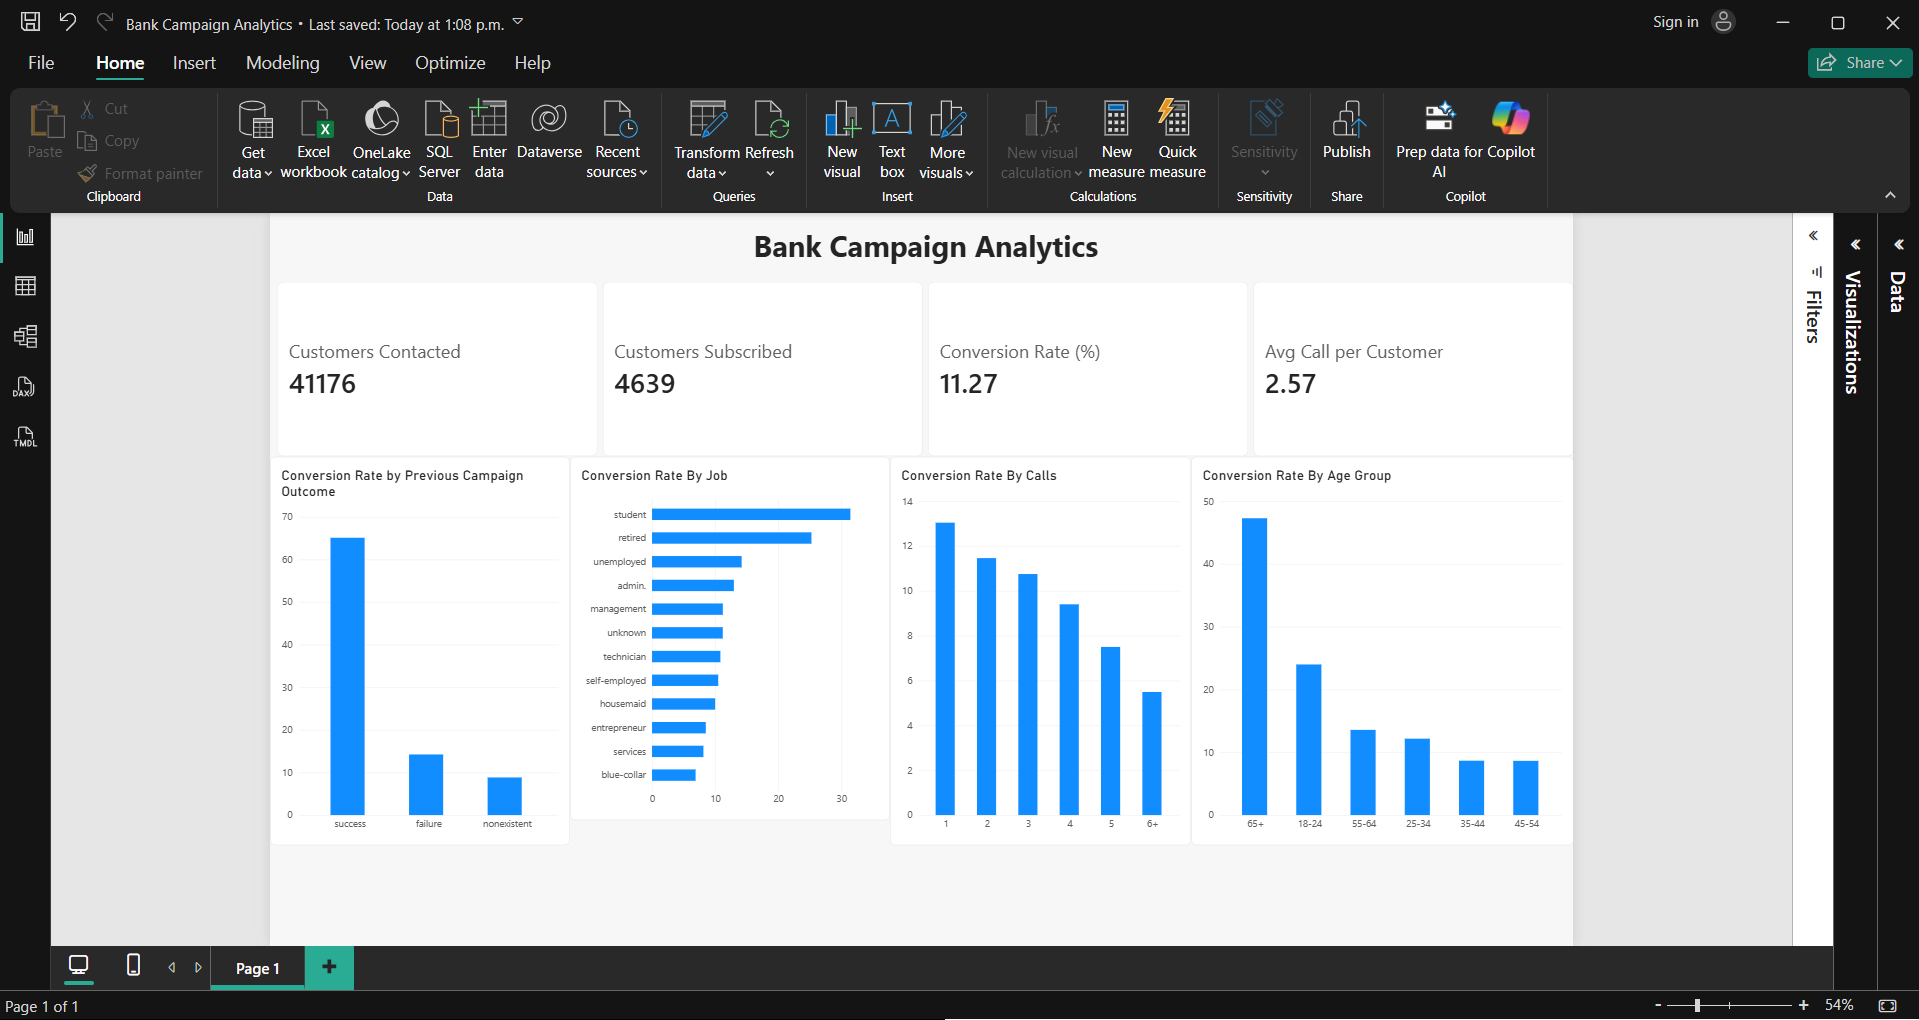

Layout of this report page (visuals, bound fields, positions):
{"tool":"powerbi","page":{"name":"Page 1","canvas":[1920,1080],"ordinal":0},"visuals":[{"type":"textbox","box":[11.1,0,1909.4,101.8],"z":0},{"type":"cardVisual","fields":{"Data":["Sum(public v_kpi_summary.total_contacts)","Sum(public v_kpi_summary.total_subscribed)","Sum(public v_kpi_summary.conversion_rate_pct)","Sum(public v_kpi_summary.avg_calls_per_customer)"]},"box":[11,101.2,1908.6,257.7],"z":1},{"type":"clusteredColumnChart","title":"Conversion Rate by Previous Campaign Outcome","fields":{"Category":["public v_by_previous_outcome.previous_outcome"],"Y":["Sum(public v_by_previous_outcome.conversion_rate_pct)"]},"box":[0,358.9,441.7,572.4],"z":2},{"type":"clusteredBarChart","title":"Conversion Rate By Job","fields":{"Category":["public v_by_job.job"],"Y":["Sum(public v_by_job.conversion_rate_pct)"]},"box":[441.7,358.9,471.2,535.6],"z":3},{"type":"clusteredColumnChart","title":"Conversion Rate By Calls","fields":{"Category":["public v_by_calls.calls_this_campaign"],"Y":["Sum(public v_by_calls.conversion_rate_pct)"]},"box":[912.9,358.9,443.6,572.4],"z":4},{"type":"clusteredColumnChart","title":"Conversion Rate By Age Group","fields":{"Category":["public v_by_age_group.age_group"],"Y":["Sum(public v_by_age_group.conversion_rate_pct)"]},"box":[1356.4,358.9,563.2,572.4],"z":5}]}

Visuals, with their boxes on the page's 1920x1080 design canvas (x1, y1, x2, y2). These are canvas units, not pixel positions in the 1919x1020 screenshot, which may show the page scaled, cropped or inside an application window:
textbox: <region>11, 0, 1920, 102</region>
cardVisual - Sum(public v_kpi_summary.total_contacts) x Sum(public v_kpi_summary.total_subscribed): <region>11, 101, 1920, 359</region>
"Conversion Rate by Previous Campaign Outcome" clusteredColumnChart: <region>0, 359, 442, 931</region>
"Conversion Rate By Job" clusteredBarChart: <region>442, 359, 913, 894</region>
"Conversion Rate By Calls" clusteredColumnChart: <region>913, 359, 1356, 931</region>
"Conversion Rate By Age Group" clusteredColumnChart: <region>1356, 359, 1920, 931</region>
